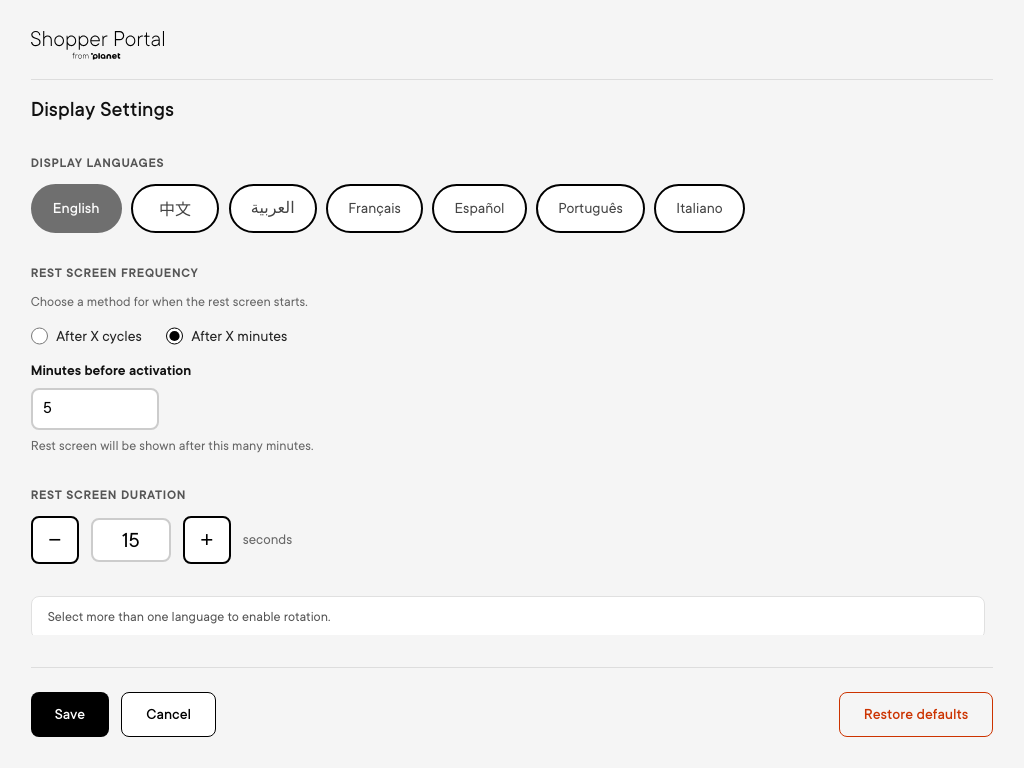
SettingsView › configures preservation duration with five-second steps from 5 to 30 seconds
Check: the number field named "Screen preservation duration in seconds" holds "15", box [91, 518, 171, 562]
Click the button named "Increase screen preservation duration": [207, 540] box [183, 516, 231, 564]
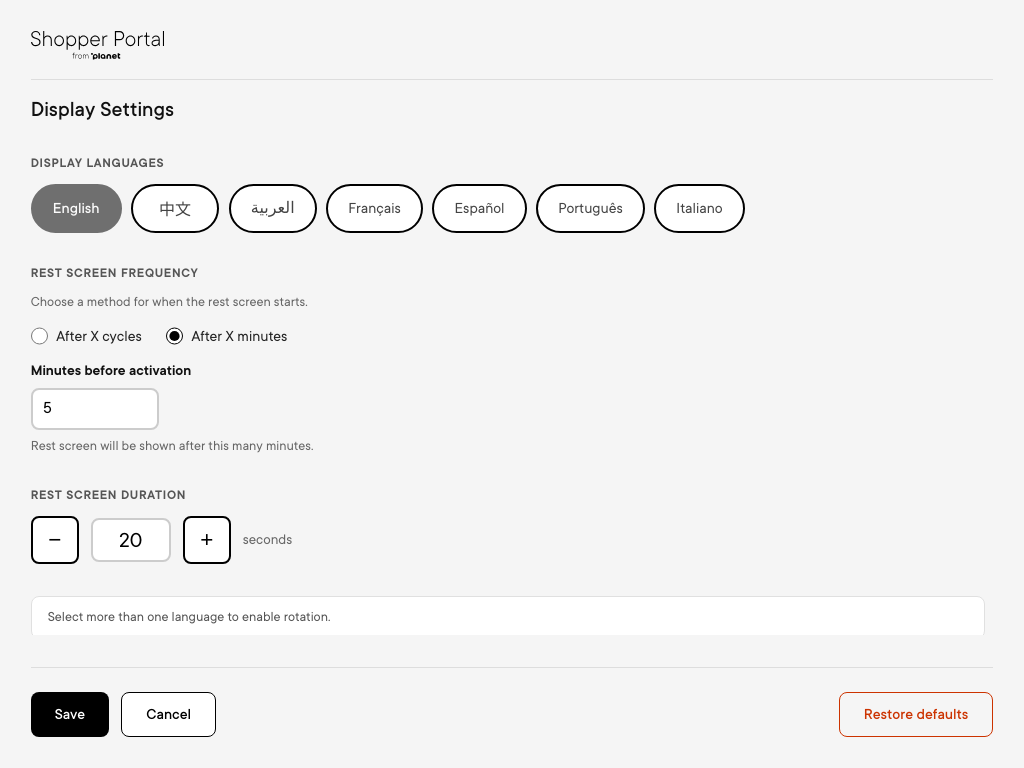
Check: the number field named "Screen preservation duration in seconds" holds "20"
Replace the text in the number field named "Screen preservation duration in seconds" with "35": [131, 540] box [91, 518, 171, 562]
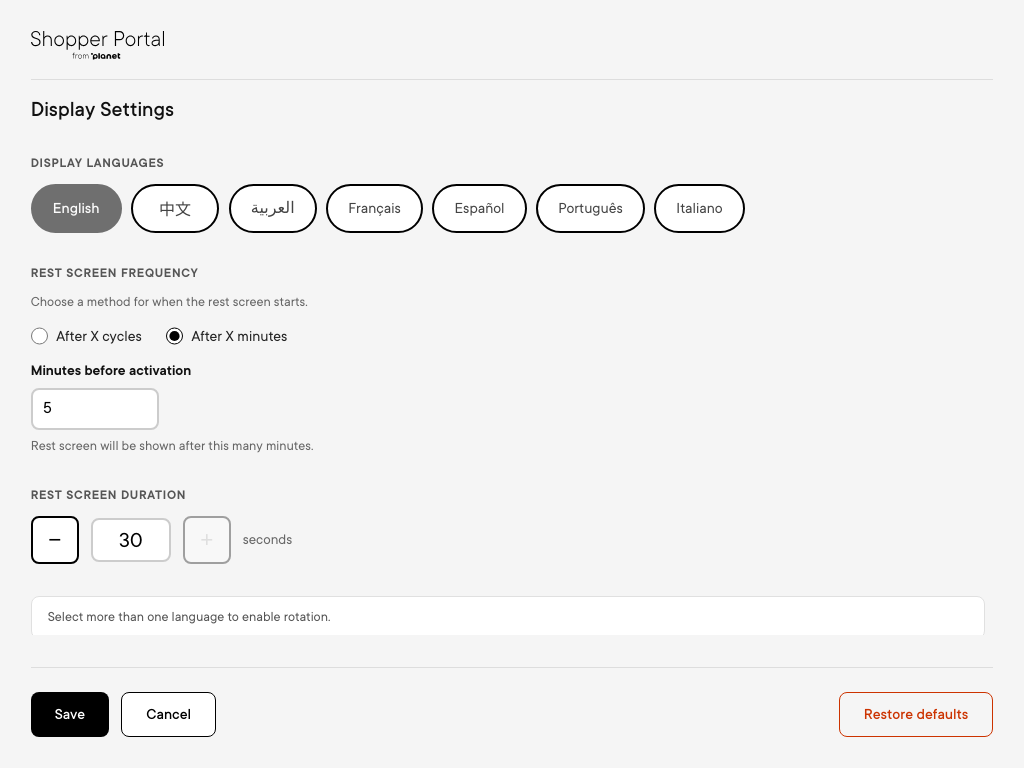
Check: the number field named "Screen preservation duration in seconds" holds "30", box [91, 518, 171, 562]
